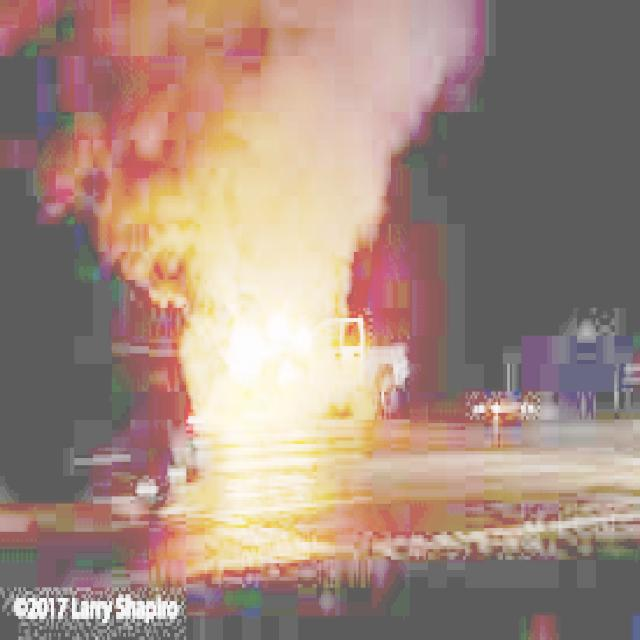api: (213, 281, 341, 421)
